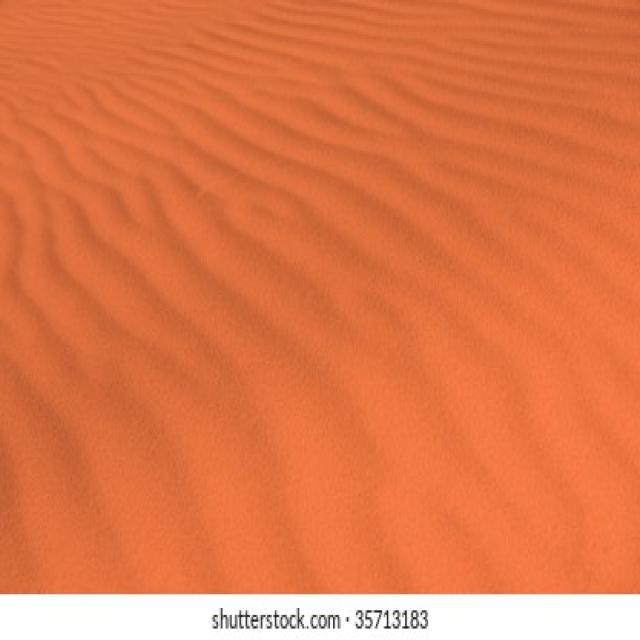Red Soil: (27, 41, 616, 556)
